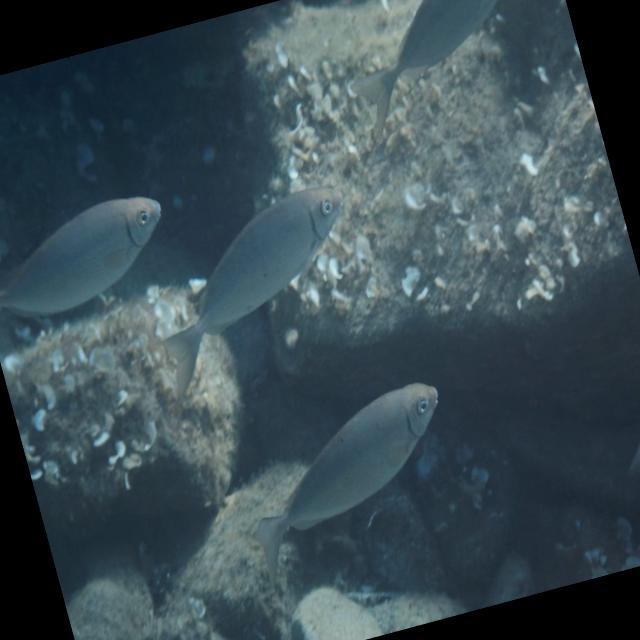Sokar Baligi: (197, 344, 498, 606), (0, 164, 194, 336)
